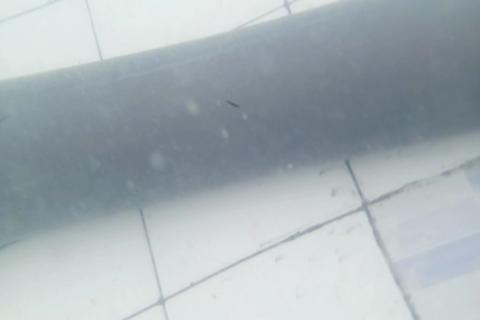keretakan: (223, 95, 241, 114), (0, 110, 11, 128)
